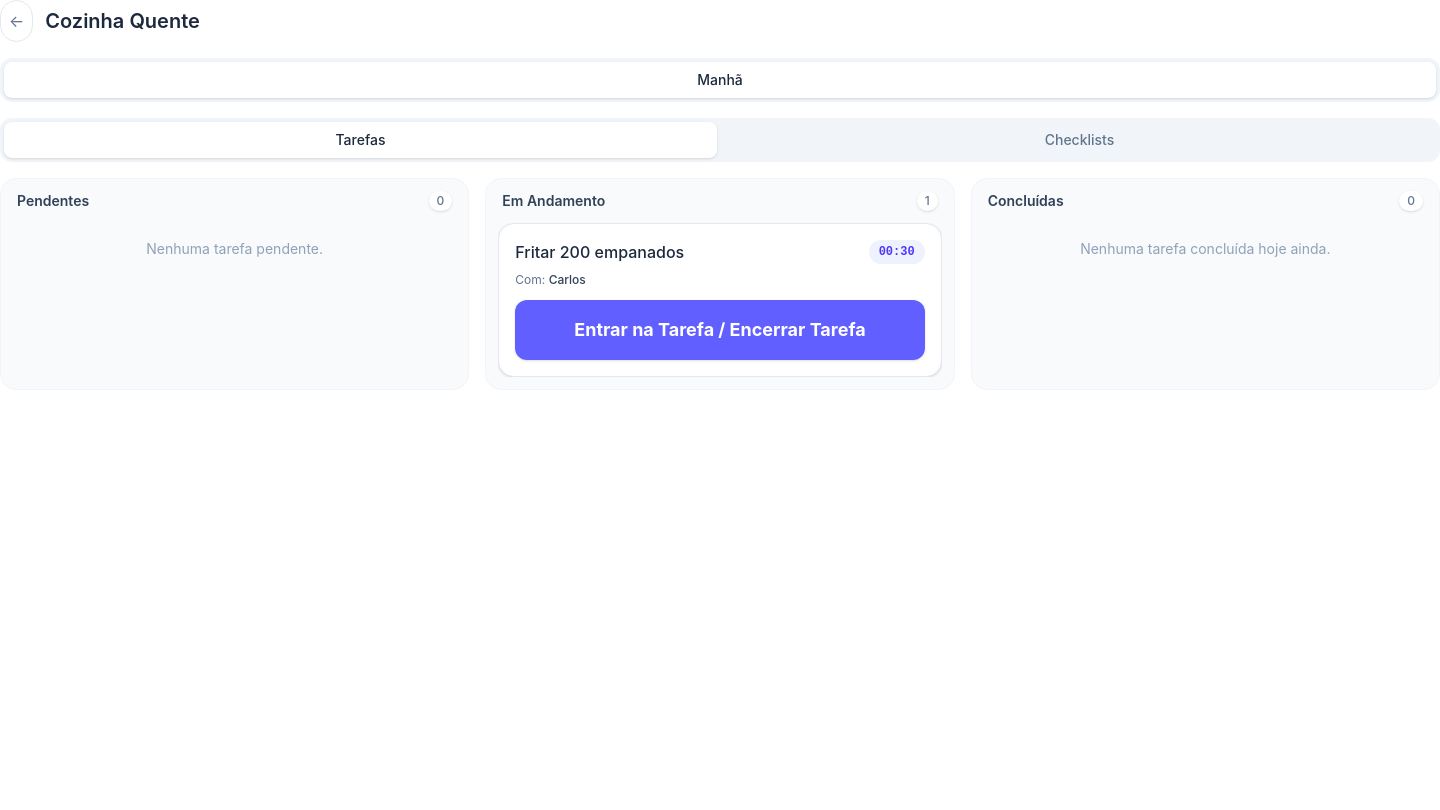
Scenario: SectorView › quem NUNCA esteve na tarefa entra, vê um toast, e o painel de Concluir NÃO abre
Expected: the text "Fritar 200 empanados" is shown, [515, 240, 684, 264]
What coordinates should you click on to do the following:
click the button "Entrar na Tarefa / Encerrar Tarefa"
I would click on:
 (720, 330)
Its box is [515, 300, 925, 360].
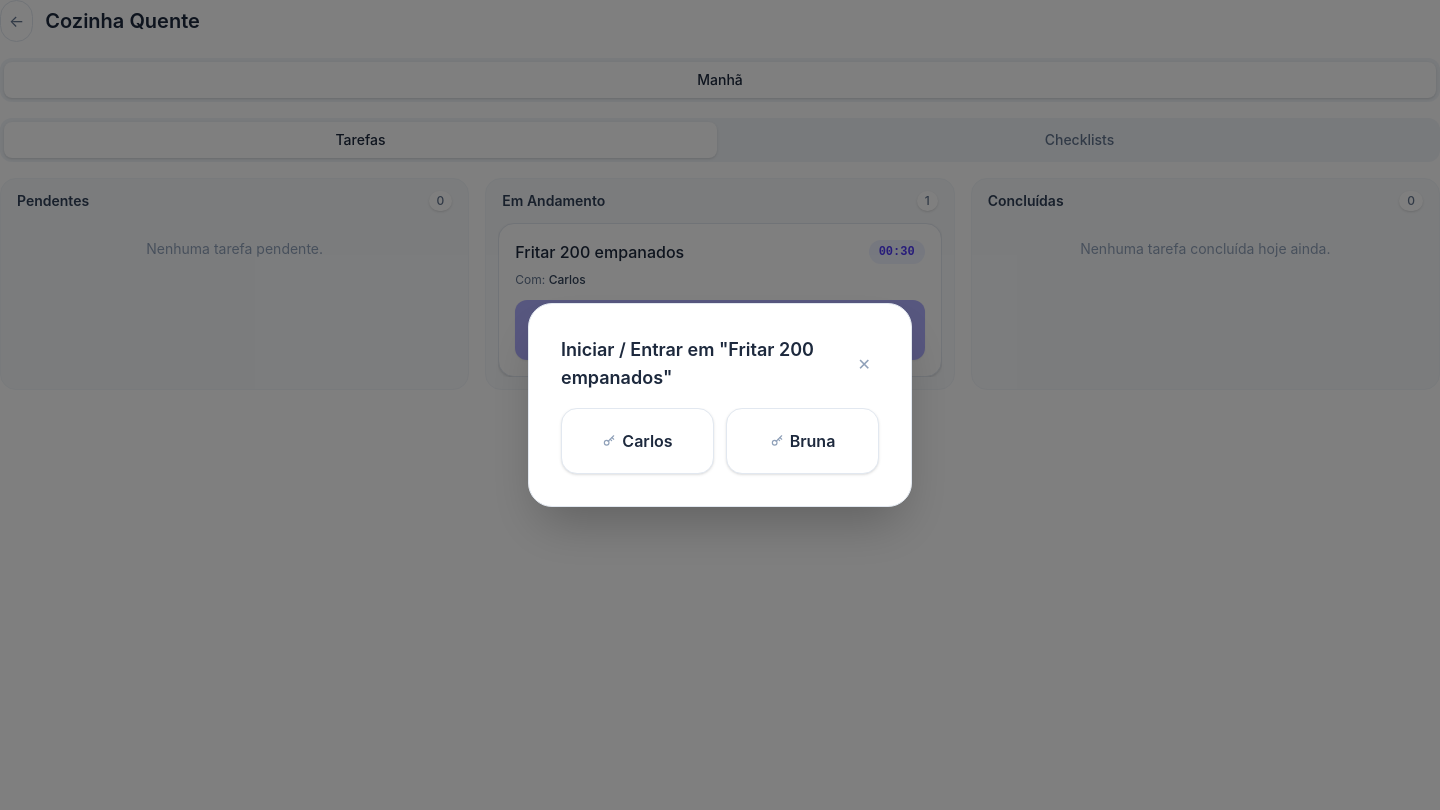
What coordinates should you click on to do the following:
click the button "Bruna"
I would click on:
 (802, 441)
Its box is [726, 408, 879, 474].
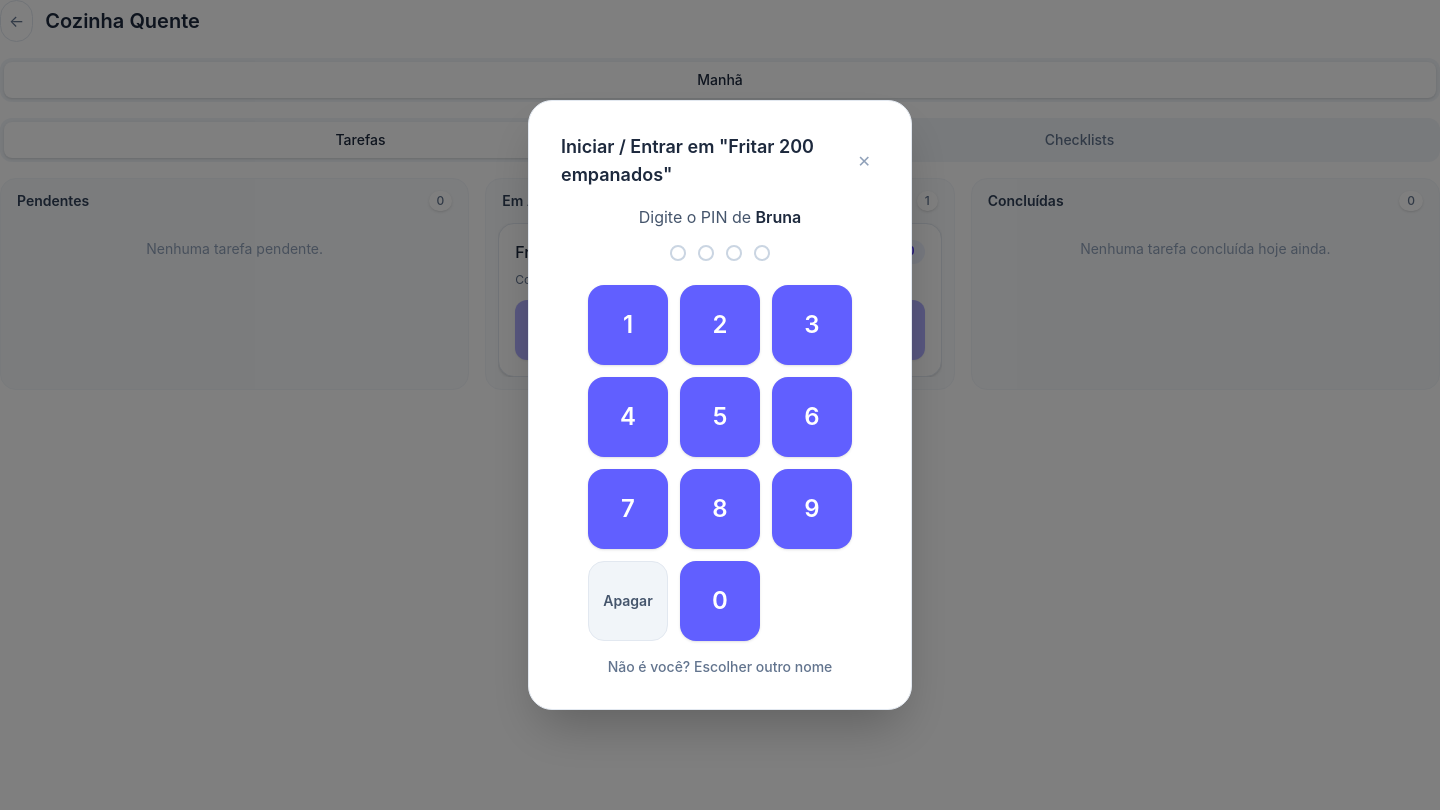
What coordinates should you click on to do the following:
click the button "2"
I would click on:
 (720, 325)
Its box is [680, 285, 760, 365].
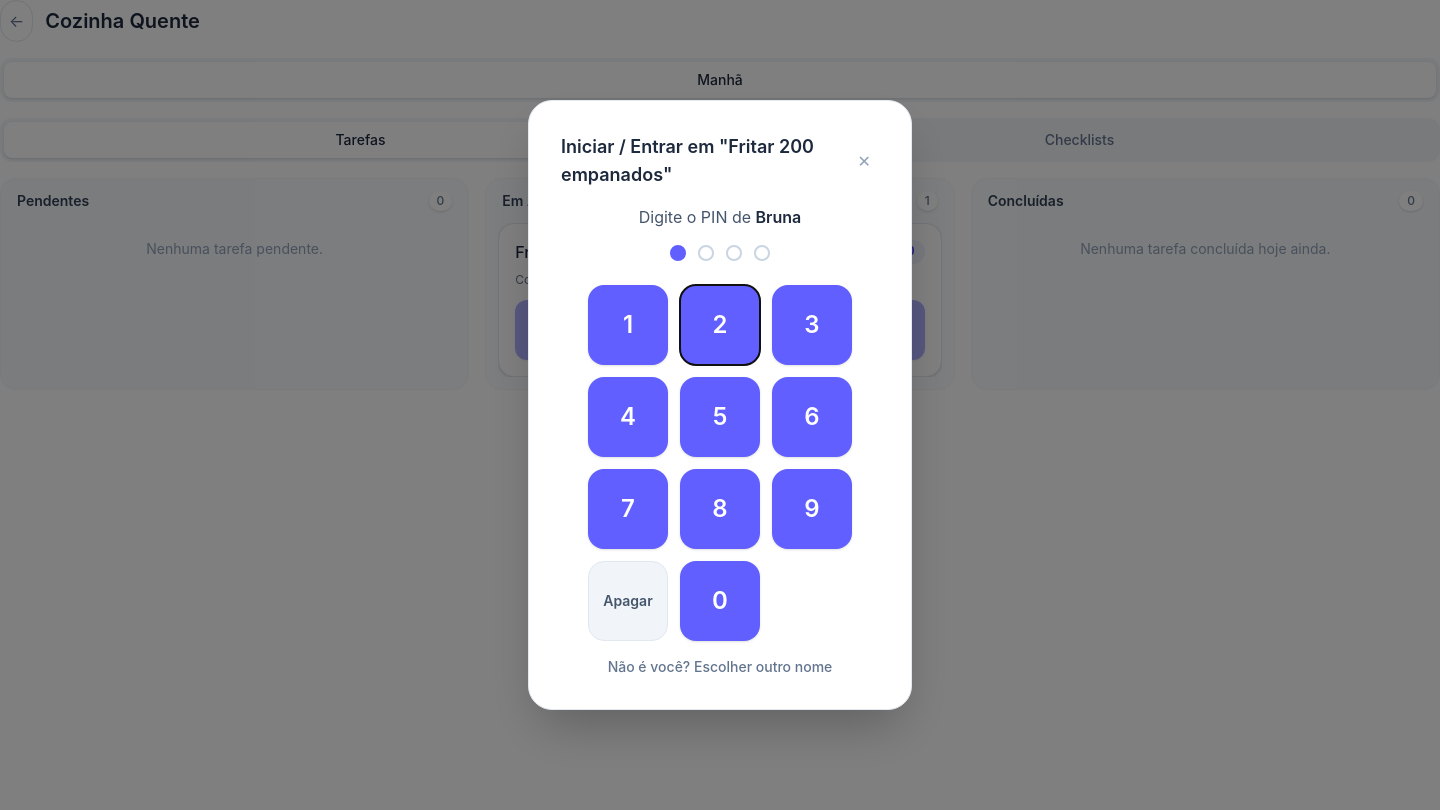
What coordinates should you click on to do the following:
click the button "2"
I would click on:
 (720, 325)
Its box is [680, 285, 760, 365].
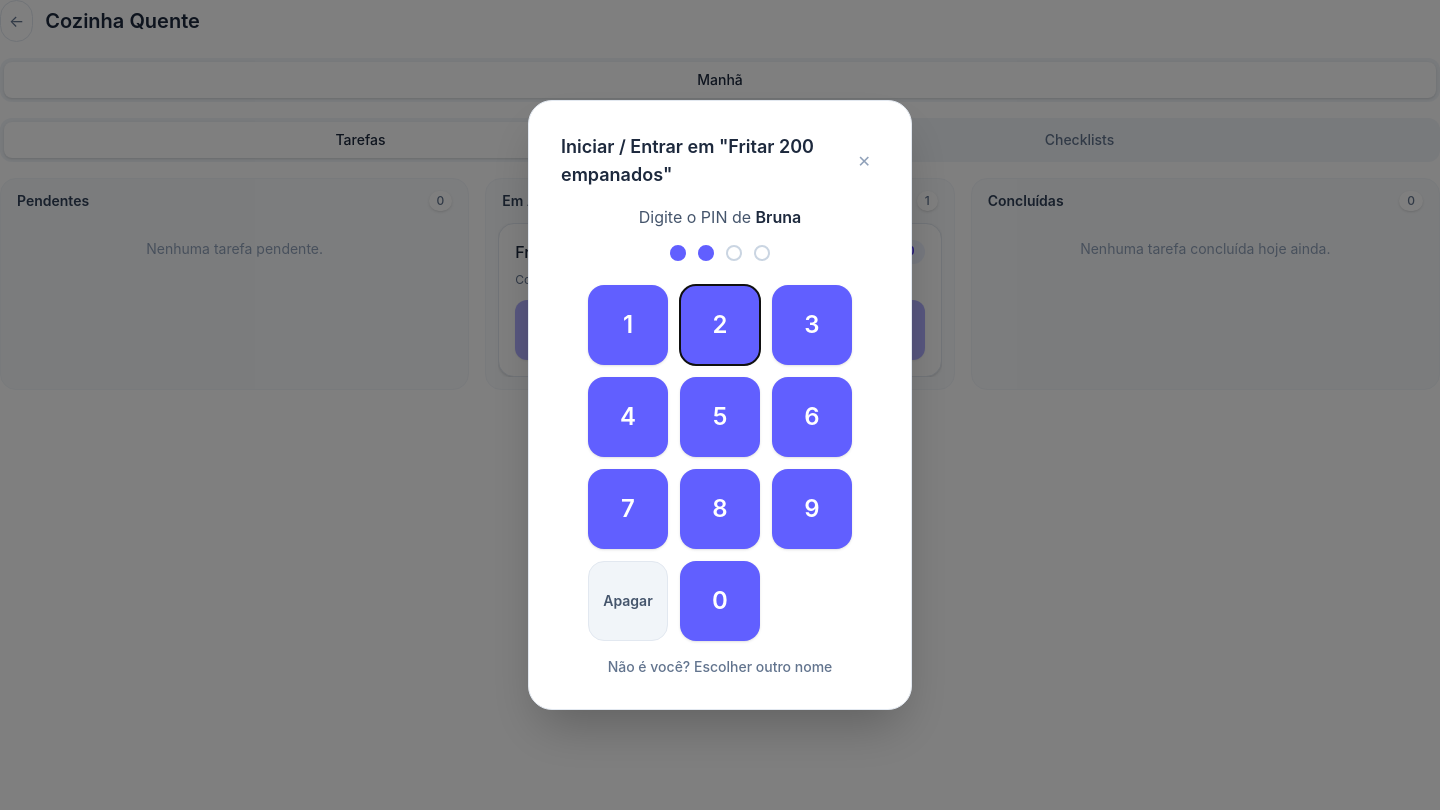
What coordinates should you click on to do the following:
click the button "2"
I would click on:
 (720, 325)
Its box is [680, 285, 760, 365].
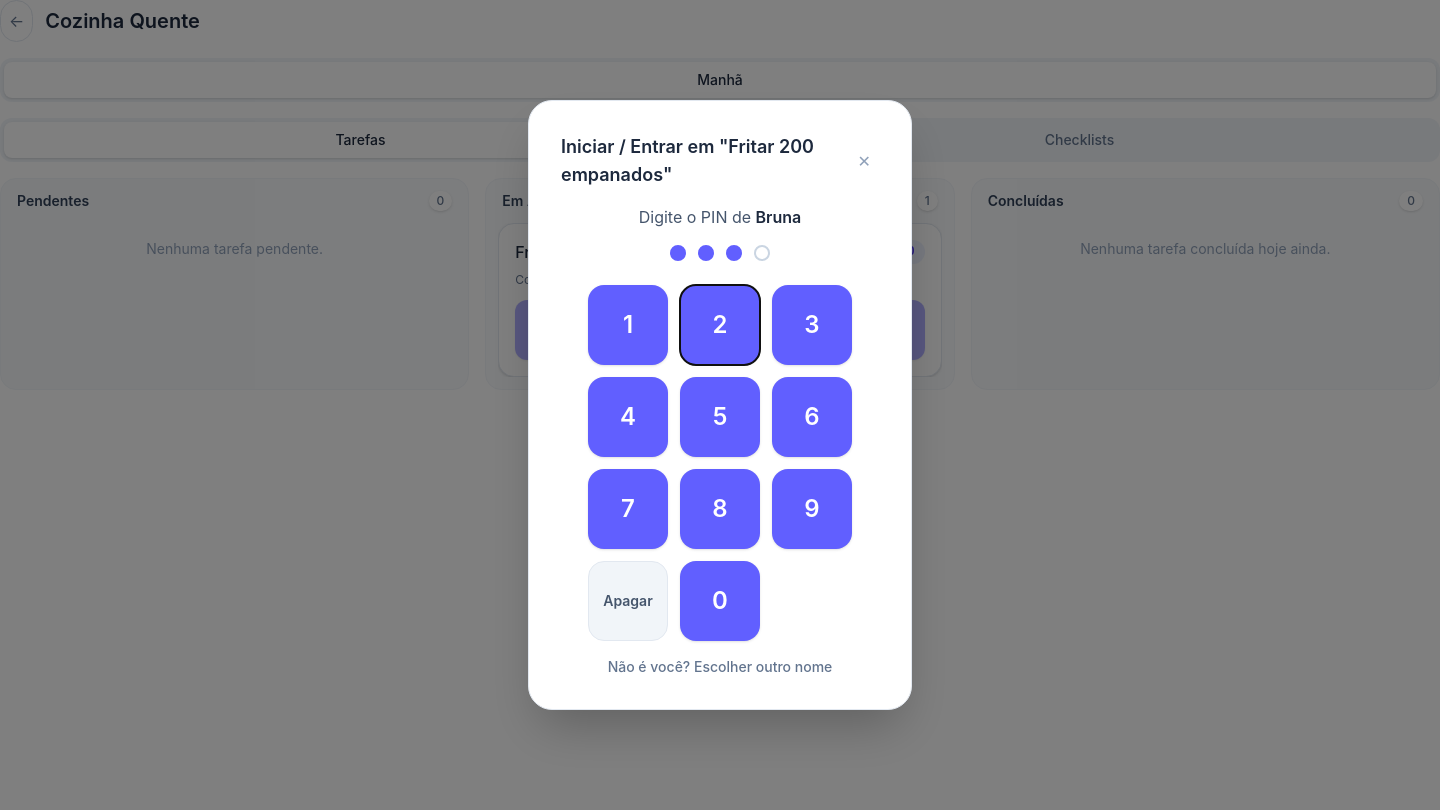
What coordinates should you click on to do the following:
click the button "2"
I would click on:
 (720, 325)
Its box is [680, 285, 760, 365].
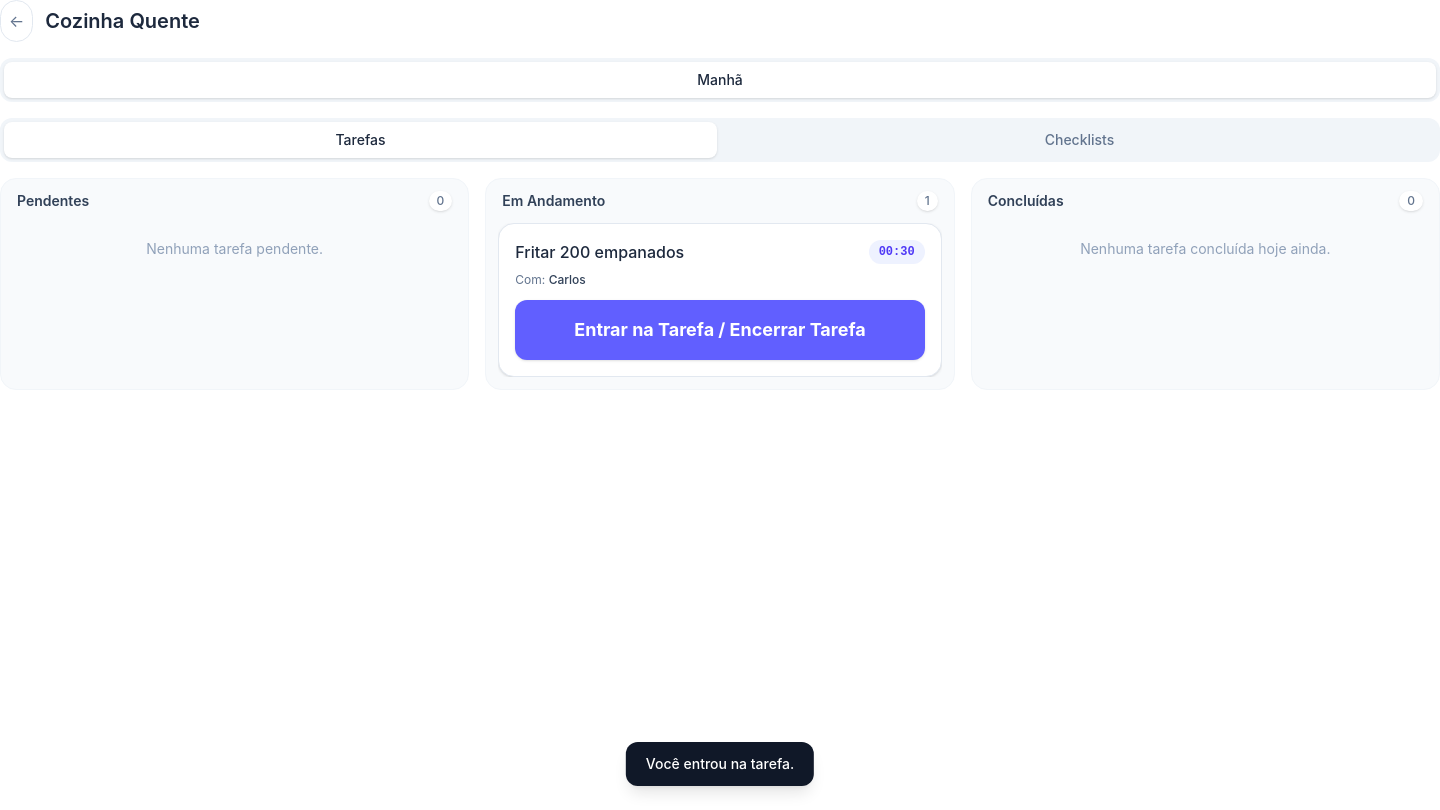
Now the text "Você entrou na tarefa." is shown, box [626, 742, 814, 786]
